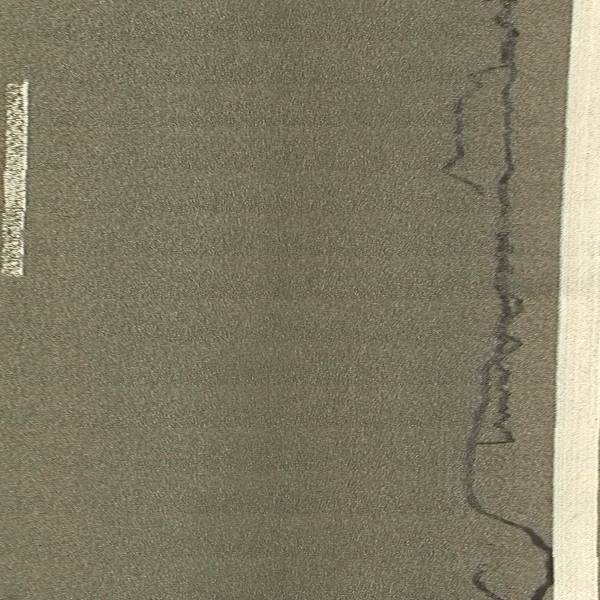road_damage: (481, 10, 535, 456), (459, 485, 552, 600)
